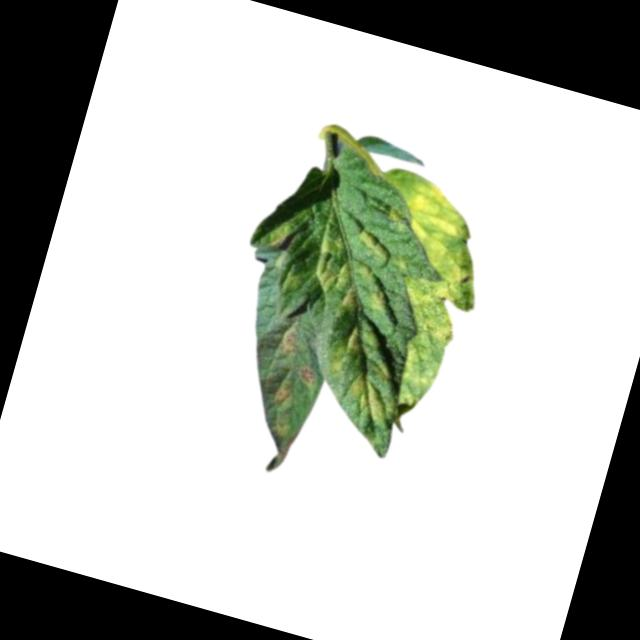Leaf_Mold: (276, 220, 431, 431), (240, 325, 327, 473), (389, 176, 489, 301), (377, 286, 463, 409)
